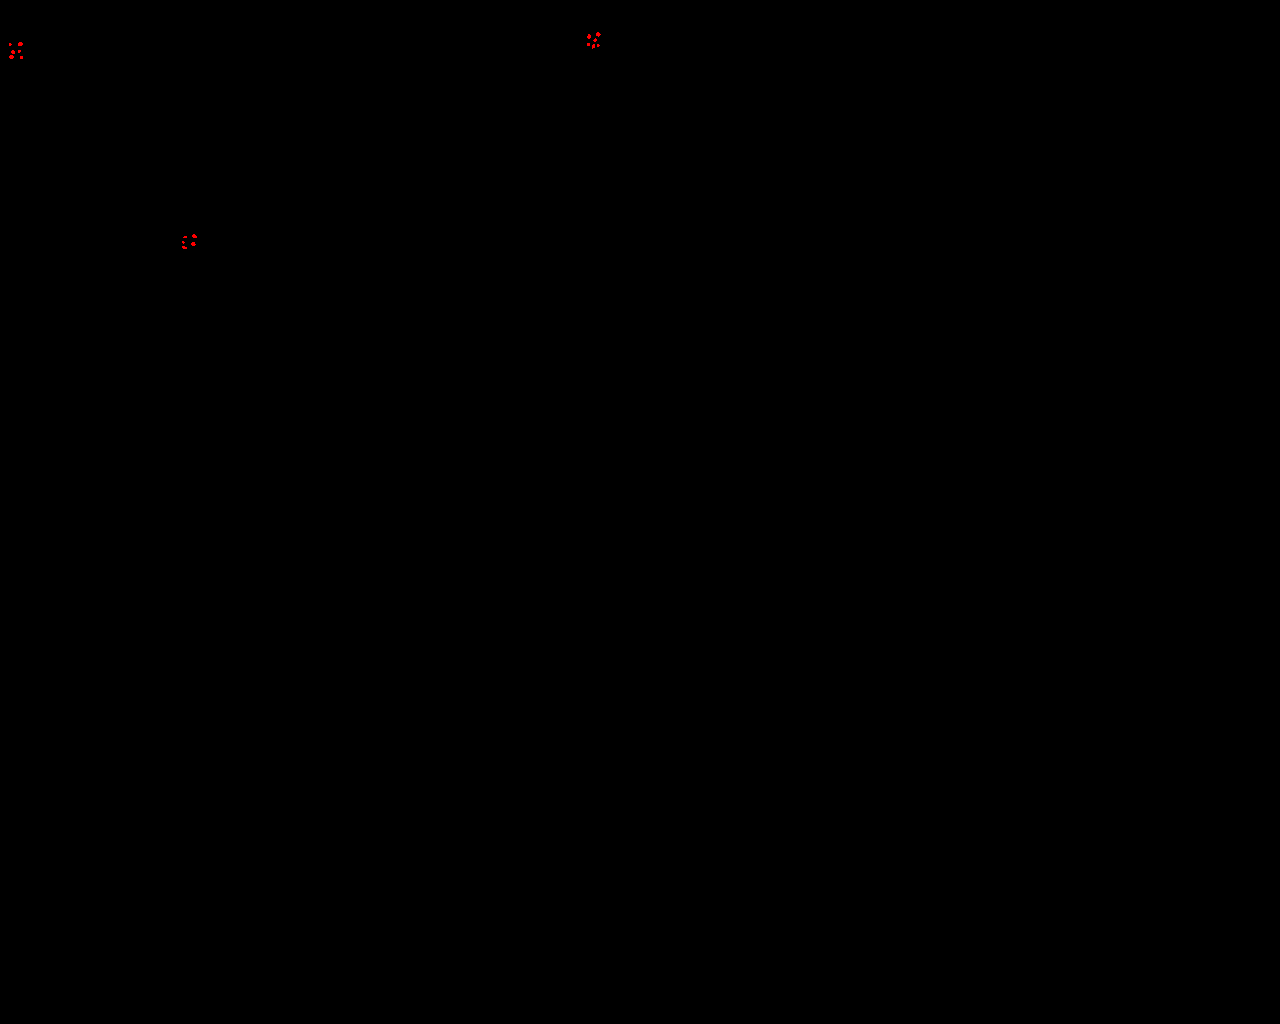Target: (596, 32, 601, 37), (18, 42, 23, 46), (192, 234, 197, 238), (587, 34, 591, 39), (191, 242, 196, 246), (182, 246, 187, 249), (594, 38, 597, 42), (11, 50, 15, 54), (9, 55, 14, 59), (592, 44, 595, 49), (587, 43, 590, 46), (597, 44, 600, 47), (18, 50, 21, 53), (182, 241, 185, 245), (183, 236, 187, 238), (9, 43, 11, 46), (20, 56, 23, 59)
